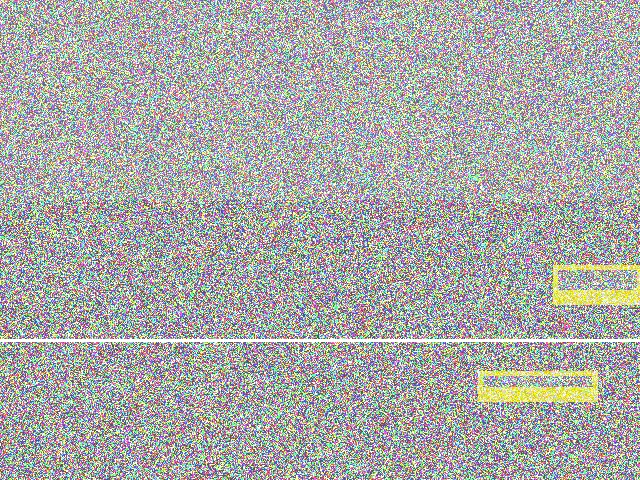car: (486, 288, 637, 393), (95, 122, 255, 208), (129, 299, 235, 428)
